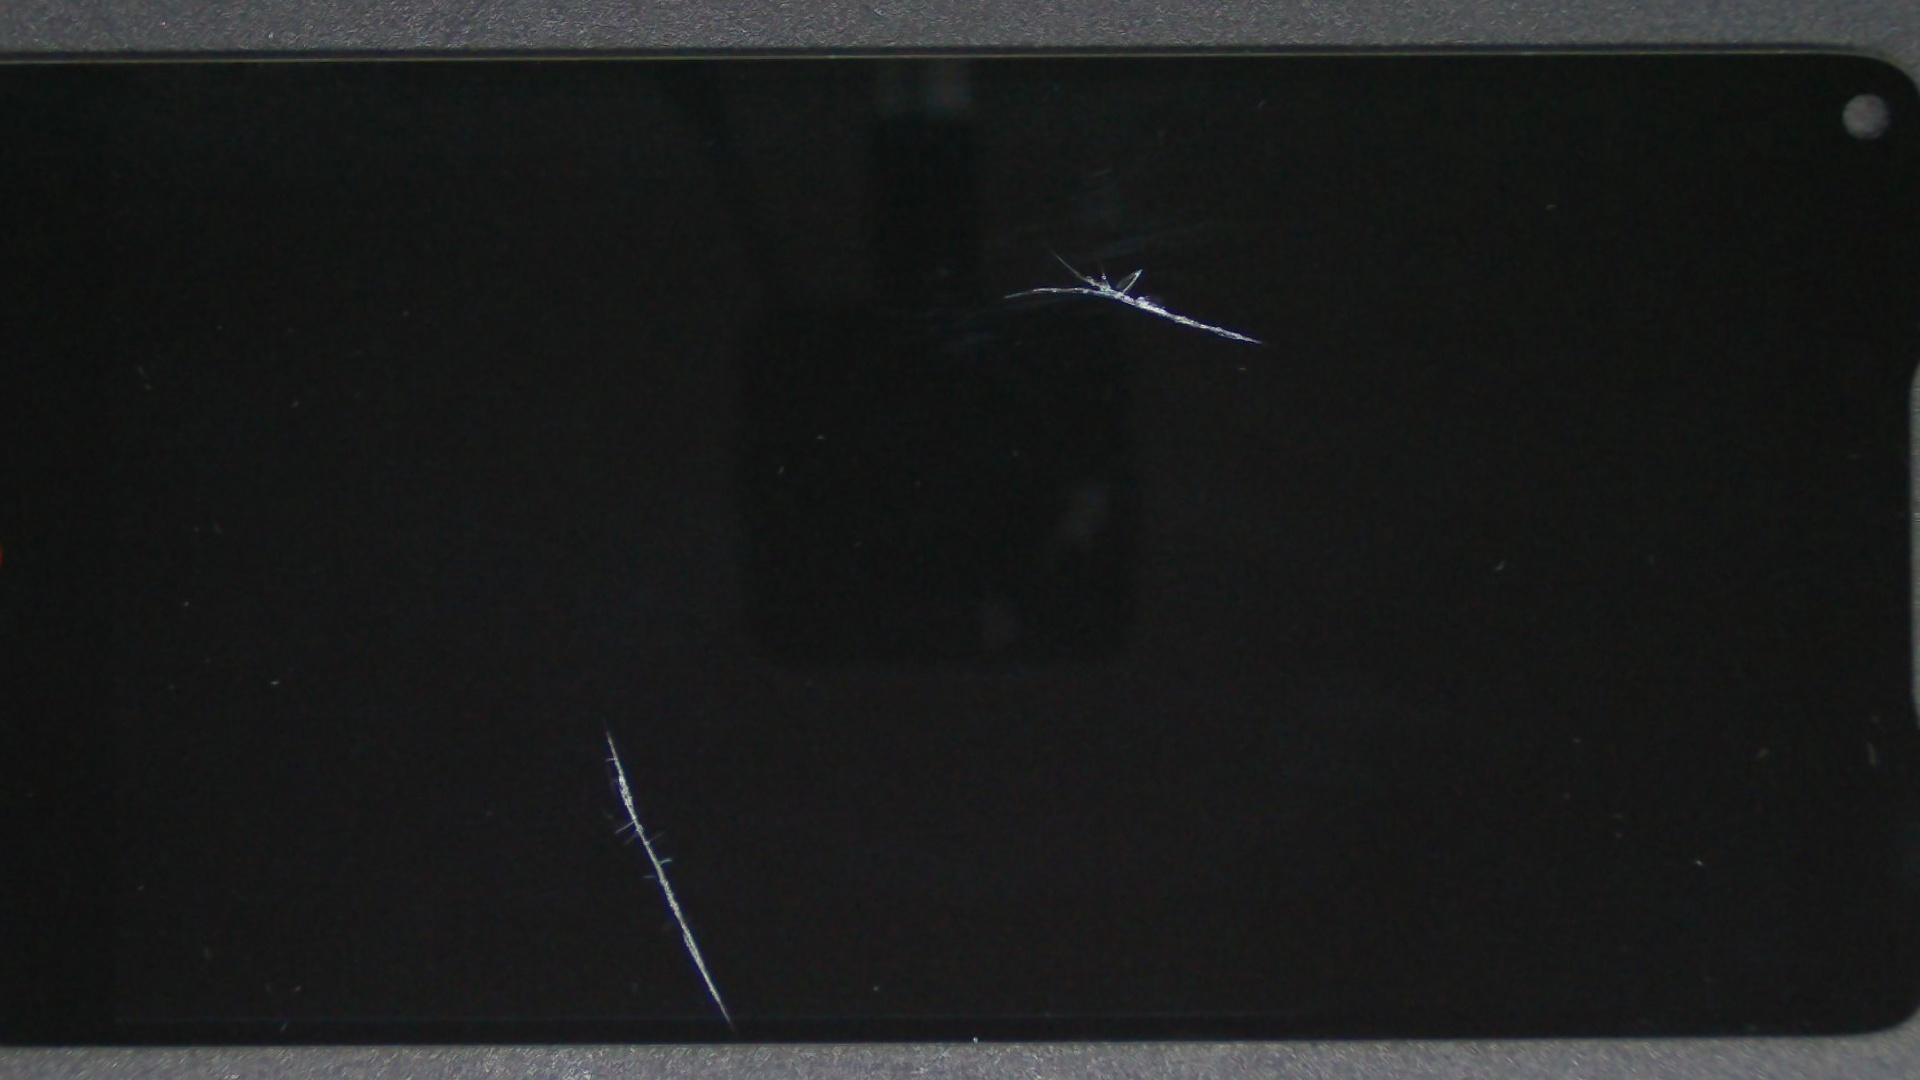oil: (227, 332, 985, 1080), (452, 91, 1656, 411)
